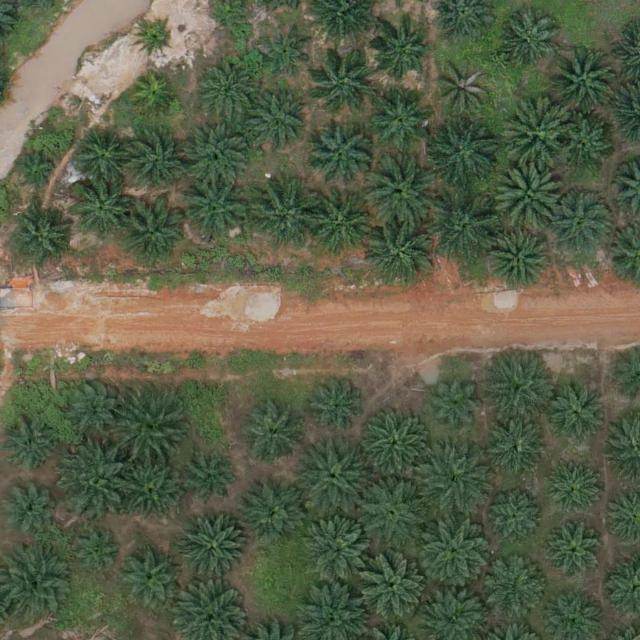Kelapa_Sawit: (420, 518, 490, 589), (355, 476, 425, 547), (1, 552, 71, 623), (482, 348, 552, 419), (310, 44, 380, 115), (246, 180, 316, 251), (420, 446, 490, 516), (356, 552, 426, 622), (356, 409, 426, 479), (301, 440, 371, 510), (302, 515, 372, 585), (179, 512, 249, 582), (115, 395, 185, 465), (58, 445, 128, 515), (476, 554, 546, 624), (548, 45, 618, 115), (500, 97, 570, 167), (491, 158, 561, 228), (430, 192, 500, 262), (428, 117, 498, 187), (364, 155, 434, 225), (365, 218, 435, 288), (302, 191, 372, 261), (180, 119, 250, 189), (179, 174, 249, 244), (117, 198, 187, 268), (305, 374, 367, 437), (239, 482, 301, 545), (119, 457, 181, 520), (60, 374, 122, 437), (544, 518, 606, 581), (484, 418, 546, 481), (549, 189, 611, 252), (495, 8, 557, 71), (368, 21, 430, 84), (307, 122, 369, 185), (244, 91, 306, 154), (124, 133, 186, 196), (71, 127, 133, 190), (10, 206, 72, 269), (242, 405, 304, 467), (119, 545, 181, 607), (541, 454, 603, 516), (545, 377, 607, 439), (486, 228, 548, 290), (368, 85, 430, 147), (196, 59, 258, 121), (68, 177, 130, 239), (556, 116, 611, 171), (259, 25, 314, 80), (430, 376, 484, 431), (185, 451, 239, 506), (68, 524, 122, 579), (1, 418, 55, 473), (1, 480, 55, 535), (490, 491, 544, 546), (437, 62, 491, 117), (129, 73, 175, 119), (14, 151, 60, 197), (135, 19, 174, 58)
